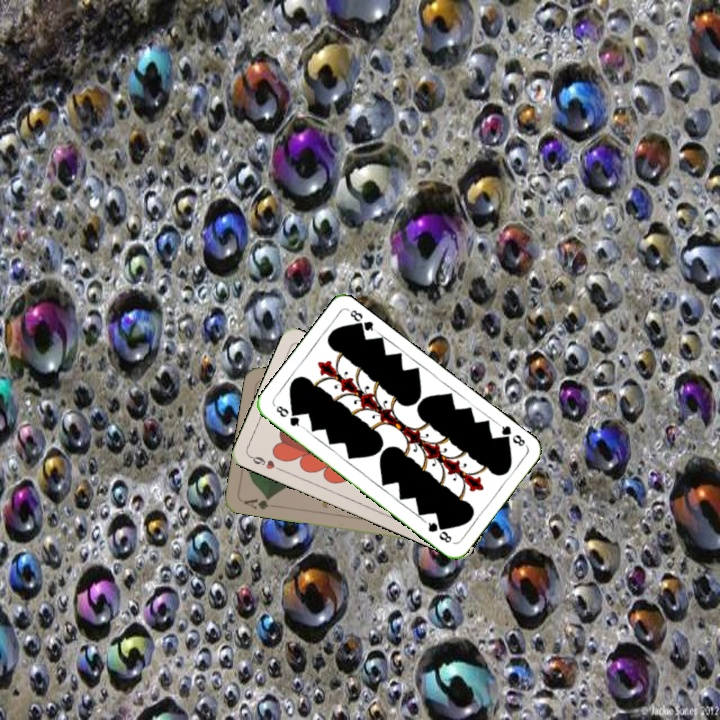G8: (494, 419, 529, 449), (272, 401, 305, 430)
GA: (240, 493, 273, 512)
H9: (246, 452, 284, 474)
